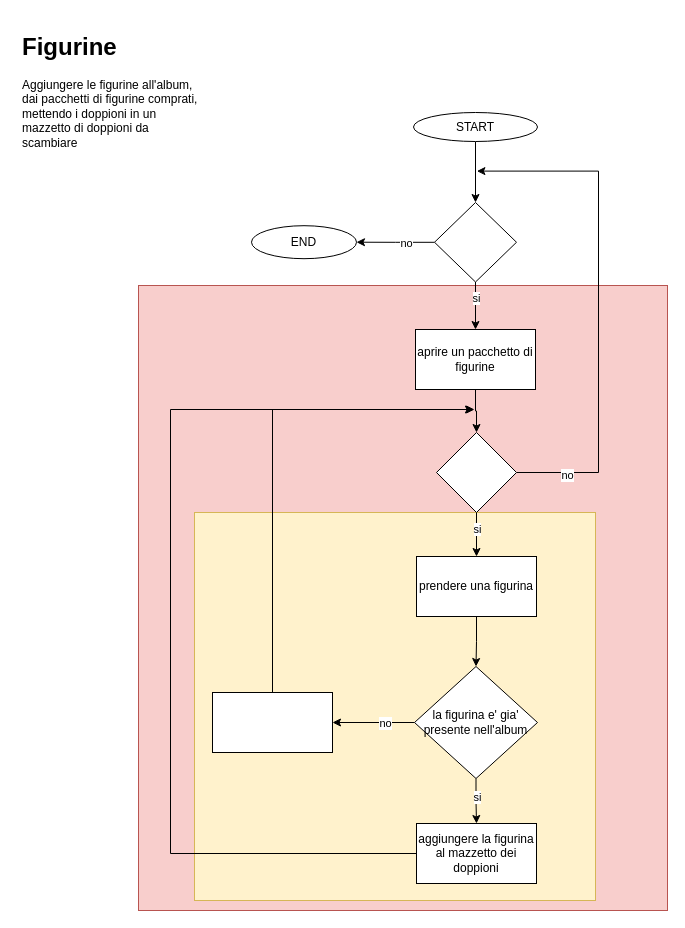
Image size: 685x928. Some labels were removed from this diagram. The centre of each missing label's shape, as x and y in pixels:
"ci sono altre figurine?" belongs at (x=476, y=472).
"Ci sono pacchetti di figurine?" belongs at (x=475, y=242).
"incollarla nell'album" belongs at (x=272, y=722).
